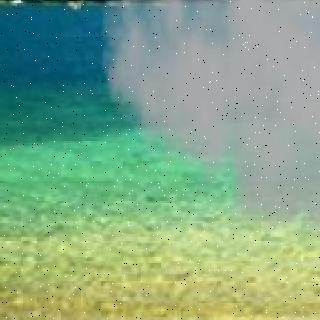smoke: (113, 0, 320, 231)
